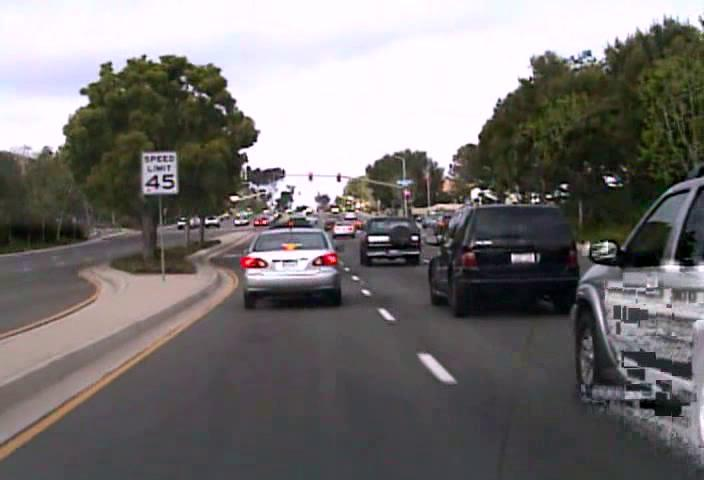speedLimit45: (140, 150, 178, 195)
